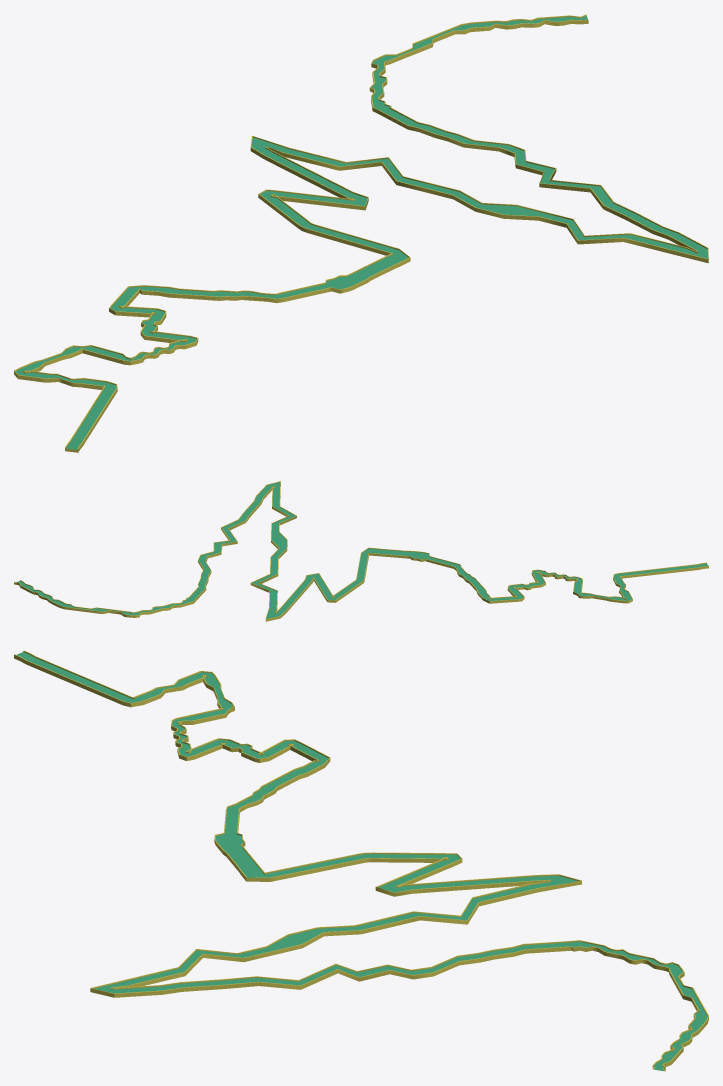
The model's file is track2.fbx.
The picture shows the model from 3 angles, top to bottom: view 1: azimuth 30°, elevation 25°; view 2: azimuth 150°, elevation 25°; view 3: azimuth 270°, elevation 25°; orthographic projection. The views are drawn at different scales.
Visible parts, largest first — view 1: edge, track; view 2: track, edge; view 3: edge, track.
Part boxes in pixels (<box>): edge: <box>14,14,708,452</box>; track: <box>16,16,708,452</box>; track: <box>16,482,708,618</box>; edge: <box>14,481,708,621</box>; edge: <box>14,650,708,1071</box>; track: <box>16,652,707,1071</box>.
Size of the model in its own units: 7.31 by 0.0384 by 5.16.
